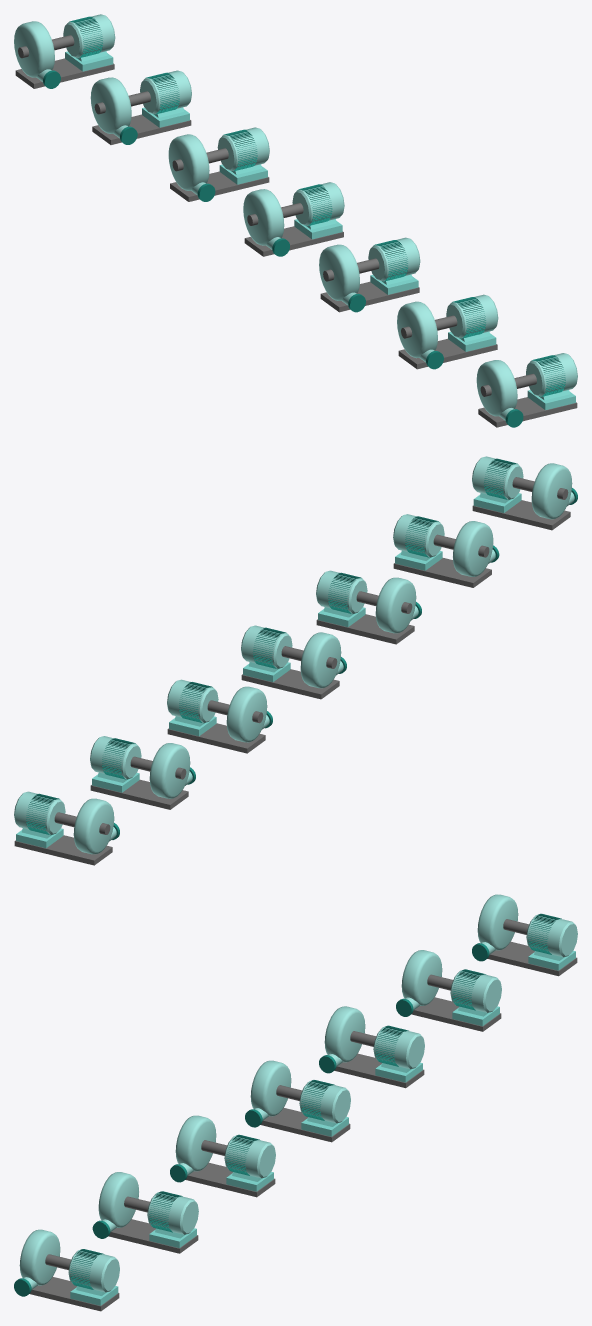
File: f_pump.gltf
3 views of the same model, one above another, from view 1: azimuth 30°, elevation 25°; view 2: azimuth 150°, elevation 25°; view 3: azimuth 330°, elevation 25° (orthographic).
Visible parts, largest first — view 1: f_pump353, f_pump392, f_pump314, f_pump001 (1), f_pump509, f_pump157 (1), f_pump470, f_pump395, f_pump473, f_pump512, f_pump161, f_pump317 (+9 smaller); view 2: f_pump353, f_pump509, f_pump001 (1), f_pump392, f_pump314, f_pump157 (1), f_pump470, f_pump356, f_pump395, f_pump512, f_pump161, f_pump005 (+9 smaller); view 3: f_pump509, f_pump353, f_pump157 (1), f_pump314, f_pump392, f_pump001 (1), f_pump317, f_pump395, f_pump470, f_pump161, f_pump512, f_pump473 (+9 smaller).
Boxes of the visible parts, x1,y1,x2,y2 form: f_pump353: (168,134,209,190); f_pump392: (243,189,284,245); f_pump314: (90,77,131,133); f_pump001 (1): (14,21,54,77); f_pump509: (476,360,517,416); f_pump157 (1): (319,244,359,300); f_pump470: (397,301,437,358); f_pump395: (292,182,344,225); f_pump473: (446,294,498,338); f_pump512: (526,353,577,396); f_pump161: (368,237,420,281); f_pump317: (140,70,191,114); f_pump353: (226,686,267,742); f_pump509: (531,463,572,519); f_pump001 (1): (73,798,114,854); f_pump392: (300,632,341,688); f_pump314: (149,743,190,798); f_pump157 (1): (375,577,416,633); f_pump470: (453,521,493,576); f_pump356: (167,679,218,722); f_pump395: (241,625,292,668); f_pump512: (472,456,523,499); f_pump161: (316,570,367,613); f_pump005: (14,791,65,834); f_pump509: (19,1229,60,1285); f_pump353: (324,1006,365,1062); f_pump157 (1): (175,1115,216,1171); f_pump314: (401,950,442,1005); f_pump392: (250,1060,291,1116); f_pump001 (1): (477,894,518,950); f_pump317: (450,970,501,1012); f_pump395: (299,1081,350,1123); f_pump470: (98,1172,138,1227); f_pump161: (224,1135,275,1178); f_pump512: (68,1249,119,1292); f_pump473: (147,1192,198,1234).
Size of the model in its own units: 13.09 by 8.08 by 130.
Materials: 4 (4 with a texture image).
